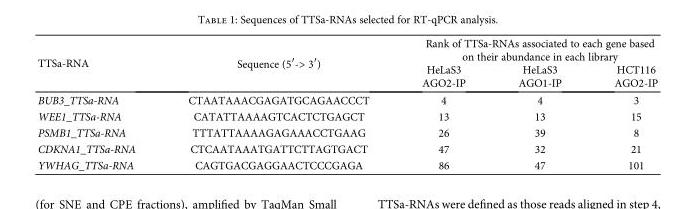table: (36, 36, 657, 170)
table column: (161, 36, 394, 170), (36, 36, 161, 170), (394, 36, 491, 170), (491, 36, 587, 170), (587, 36, 657, 170)
table column header: (36, 36, 657, 91)
table row: (36, 62, 657, 91), (36, 36, 657, 62), (36, 107, 657, 124), (36, 91, 657, 107), (36, 124, 657, 140), (36, 140, 657, 156), (36, 156, 657, 170)
table spanning cell: (161, 36, 394, 91), (36, 36, 161, 91), (394, 36, 657, 62)
